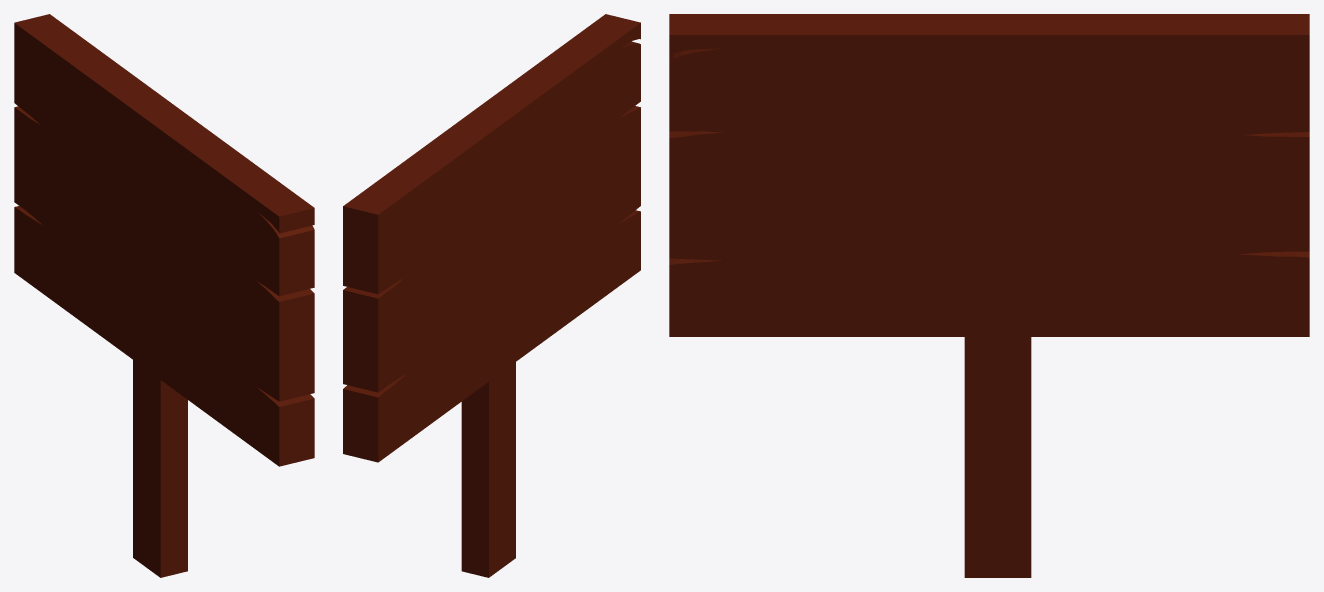
The model's file is LETRERO ASSET.fbx.
3 views of the same model, side by side, from view 1: azimuth 30°, elevation 25°; view 2: azimuth 150°, elevation 25°; view 3: azimuth 270°, elevation 25° (orthographic). The views are drawn at different scales.
Parts seen in each view (by area): view 1: LETRERO; view 2: LETRERO; view 3: LETRERO.
Part boxes in pixels (left/top/right/bottom): LETRERO: left=14, top=14, right=314, bottom=577; LETRERO: left=343, top=14, right=640, bottom=577; LETRERO: left=669, top=14, right=1309, bottom=577.
Bounding box in the file's own units: 104 × 1259 × 1339.
